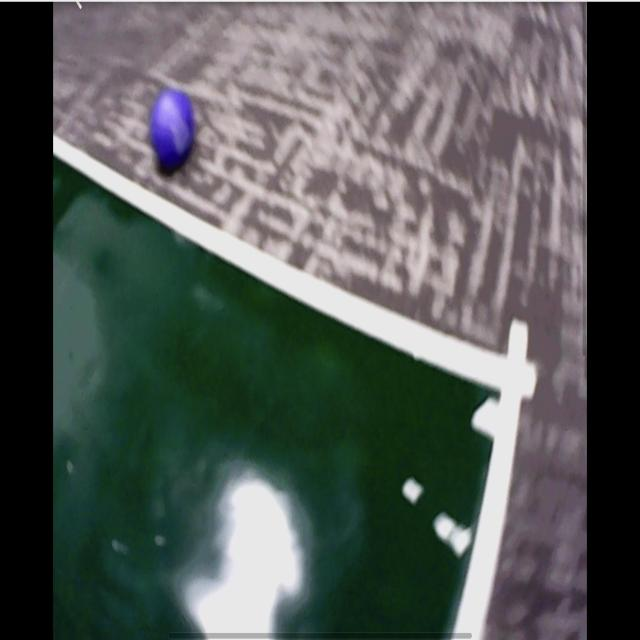ball: (153, 89, 194, 165)
